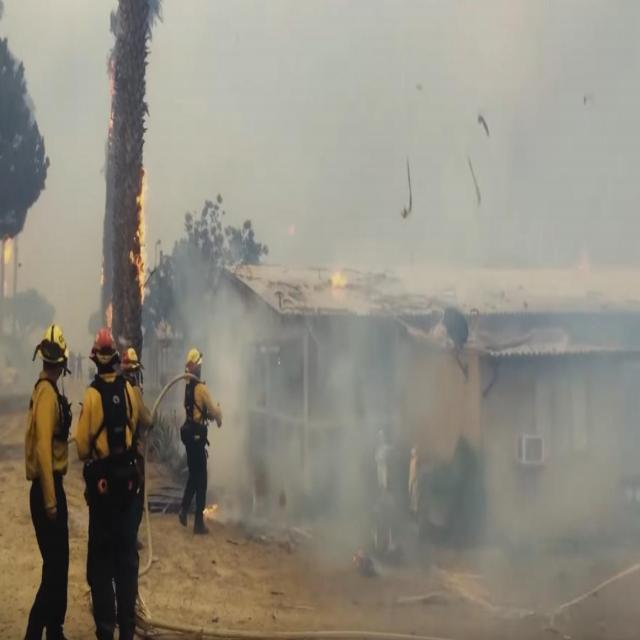Fire: (132, 156, 149, 298), (327, 268, 349, 292), (103, 300, 114, 330), (2, 237, 14, 264), (204, 496, 217, 517)
